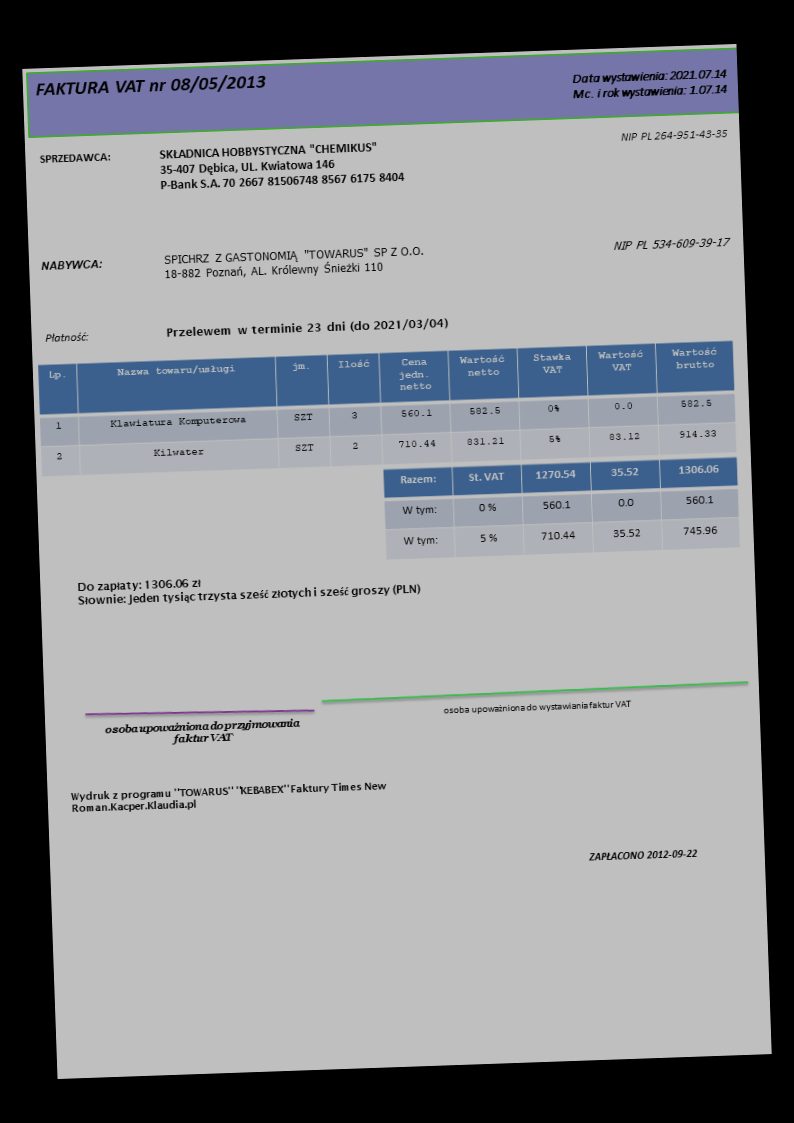Table: (35, 339, 737, 478), (382, 455, 741, 560)
TextBox: (75, 568, 423, 609), (156, 137, 407, 193), (68, 778, 388, 817), (161, 243, 427, 281), (165, 315, 450, 340), (33, 72, 268, 101), (104, 716, 302, 747), (569, 66, 729, 103), (442, 698, 632, 718), (612, 235, 731, 254), (586, 845, 698, 865), (619, 126, 728, 144), (37, 150, 113, 167), (39, 256, 104, 274), (43, 330, 89, 345)
